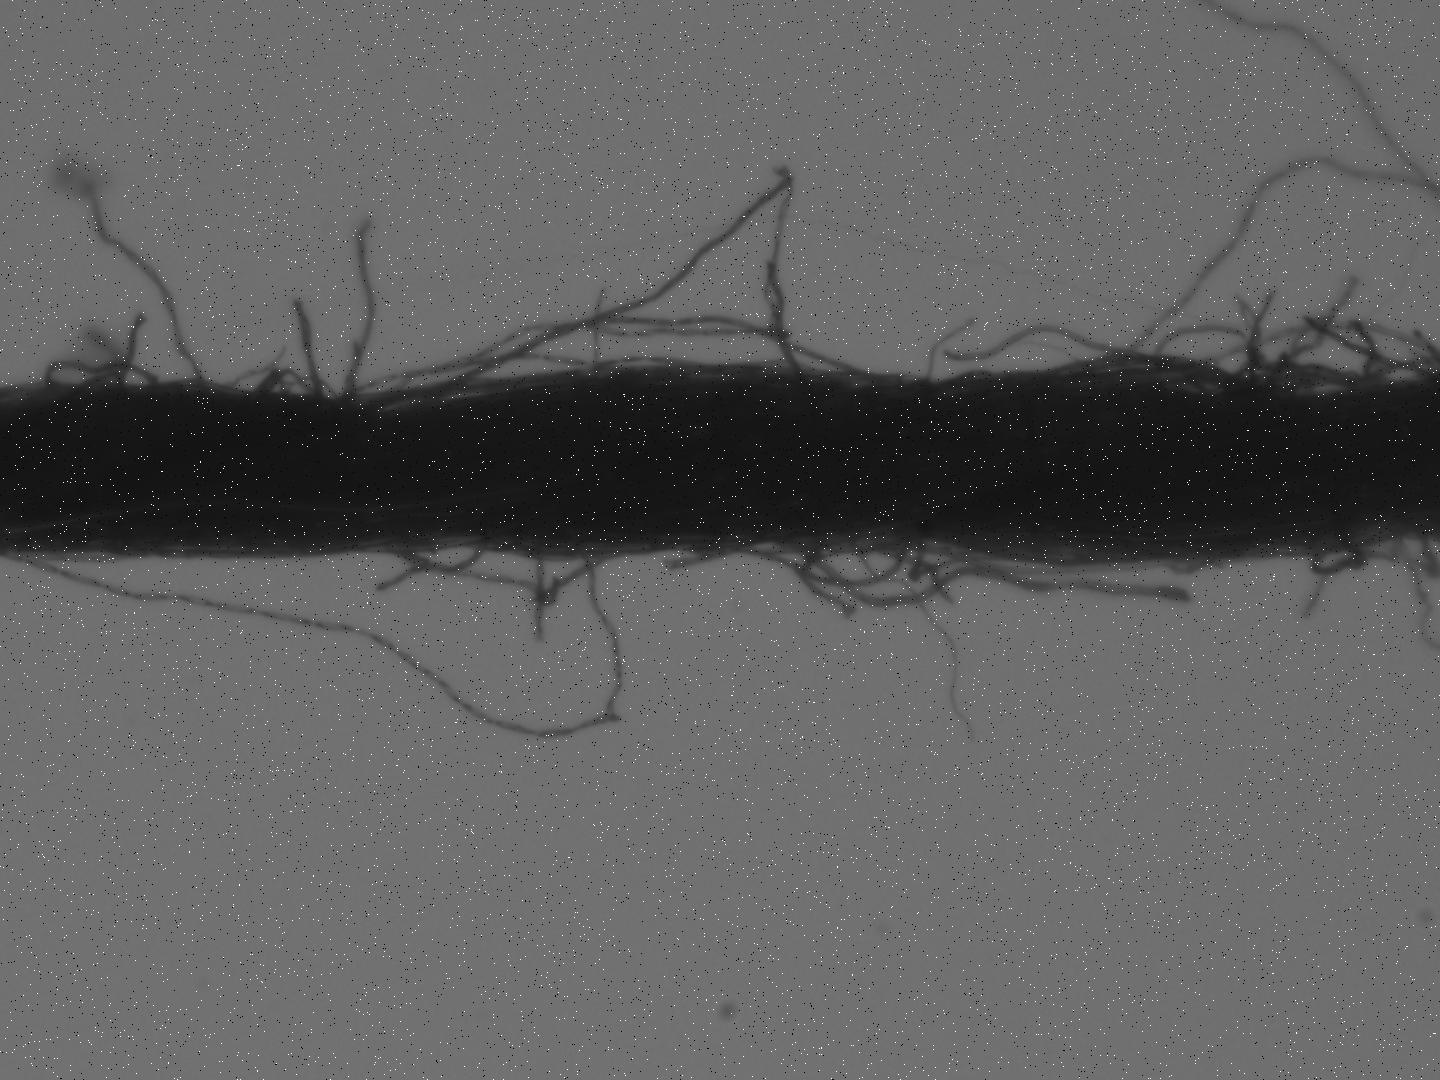loop_fiber: (8, 535, 629, 743), (381, 157, 830, 416), (1194, 317, 1439, 387), (730, 529, 915, 589), (367, 525, 498, 601), (1053, 347, 1244, 390), (37, 351, 162, 402), (1159, 317, 1262, 377), (1308, 524, 1378, 579), (249, 363, 329, 397)
protruding_fiber: (332, 205, 380, 406)
